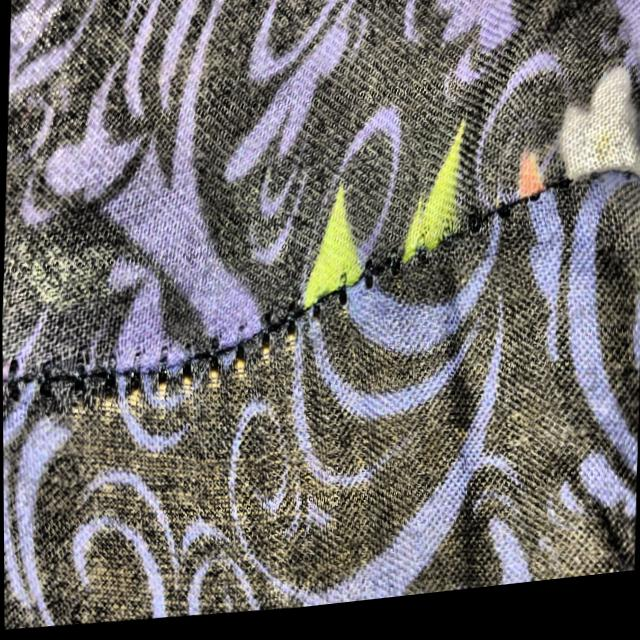seam: (9, 199, 424, 467)
